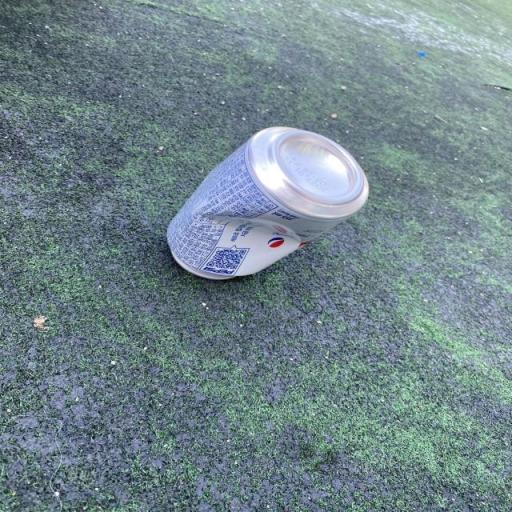metal: (156, 117, 384, 304)
